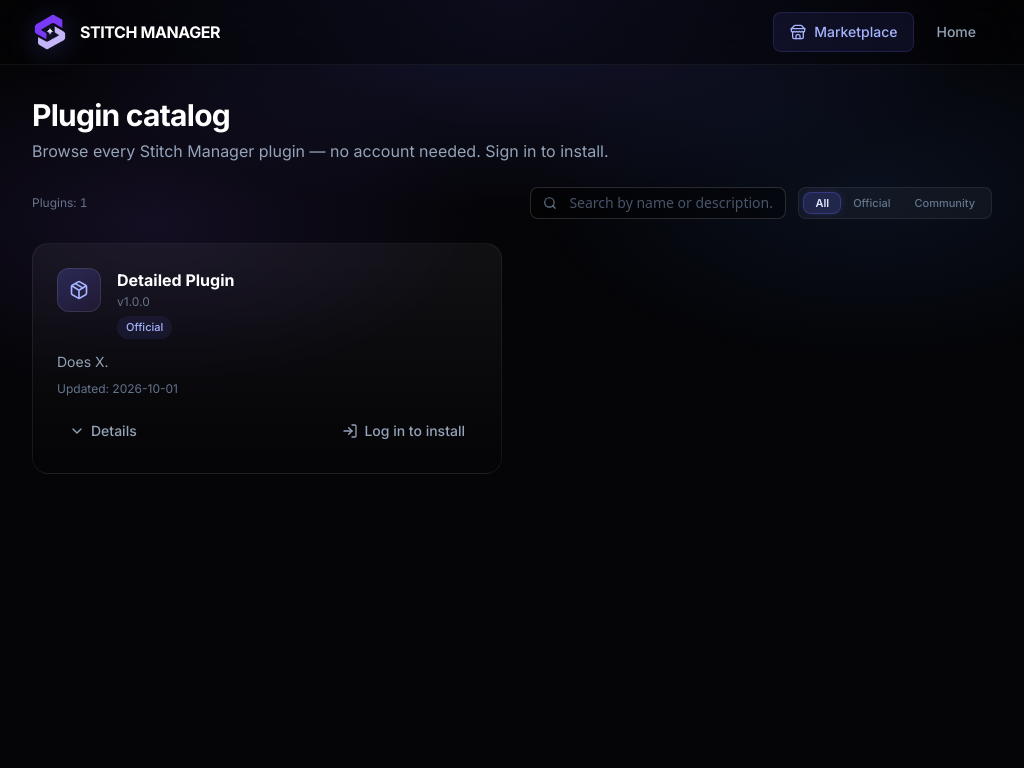
CatalogPage › details toggle expands features and the latest changelog entry
Check: the text "Detailed Plugin" is shown, box x1=117 y1=270 x2=234 y2=290
Check: the text "Updated: 2026-10-01" is shown, box x1=57 y1=381 x2=178 y2=397
Step 1. Click the button "Details" → (103, 431), box x1=57 y1=413 x2=149 y2=449
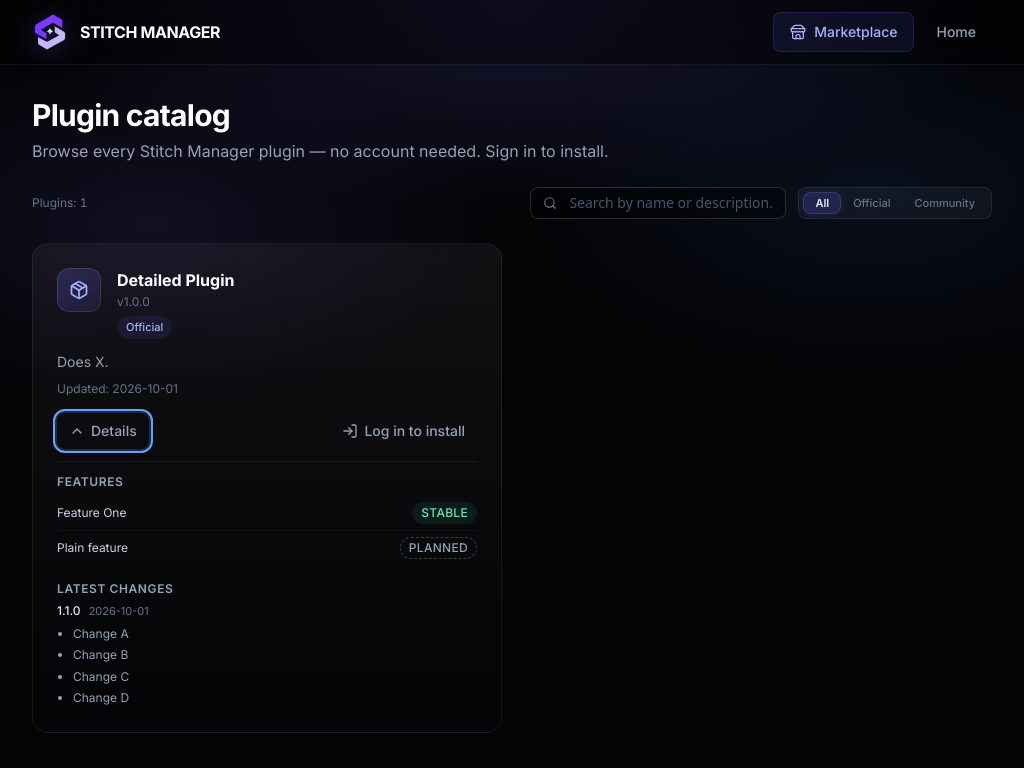
Check: the button "Details" is expanded
Check: the text "Feature One" is shown, box x1=57 y1=505 x2=126 y2=520
Check: the text "Plain feature" is shown, box x1=57 y1=540 x2=128 y2=555
Step 2. Click the button "Details" → (103, 431), box x1=57 y1=413 x2=149 y2=449
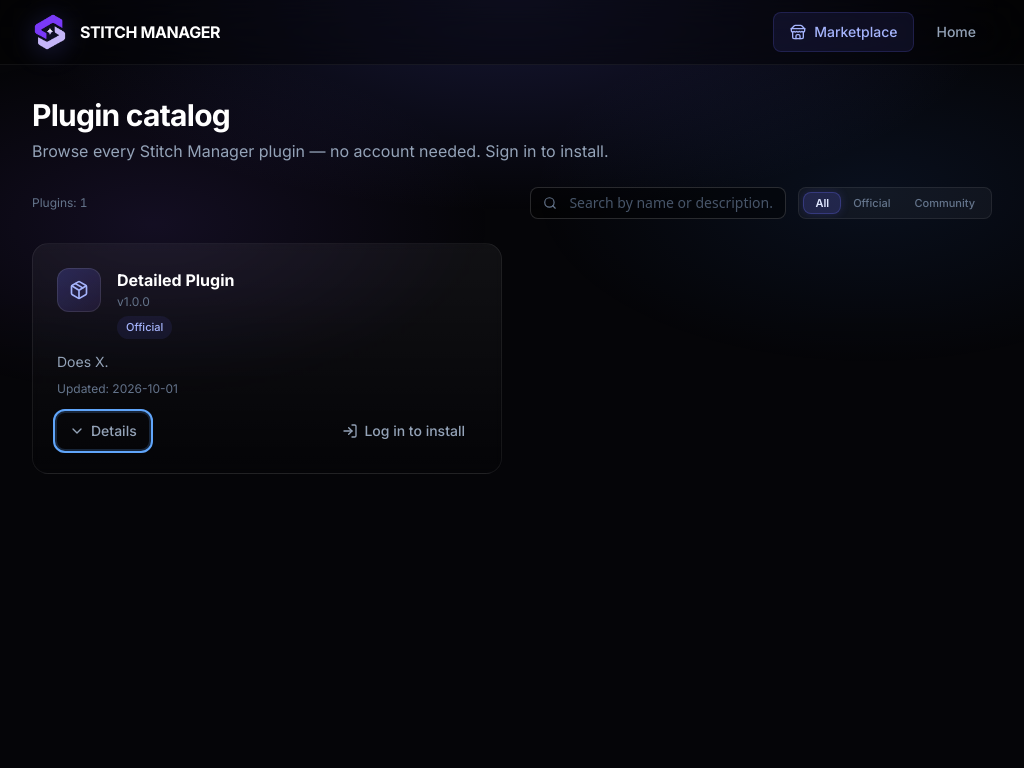
Check: the text "Feature One" is gone
Check: the list item "Change A" is gone
